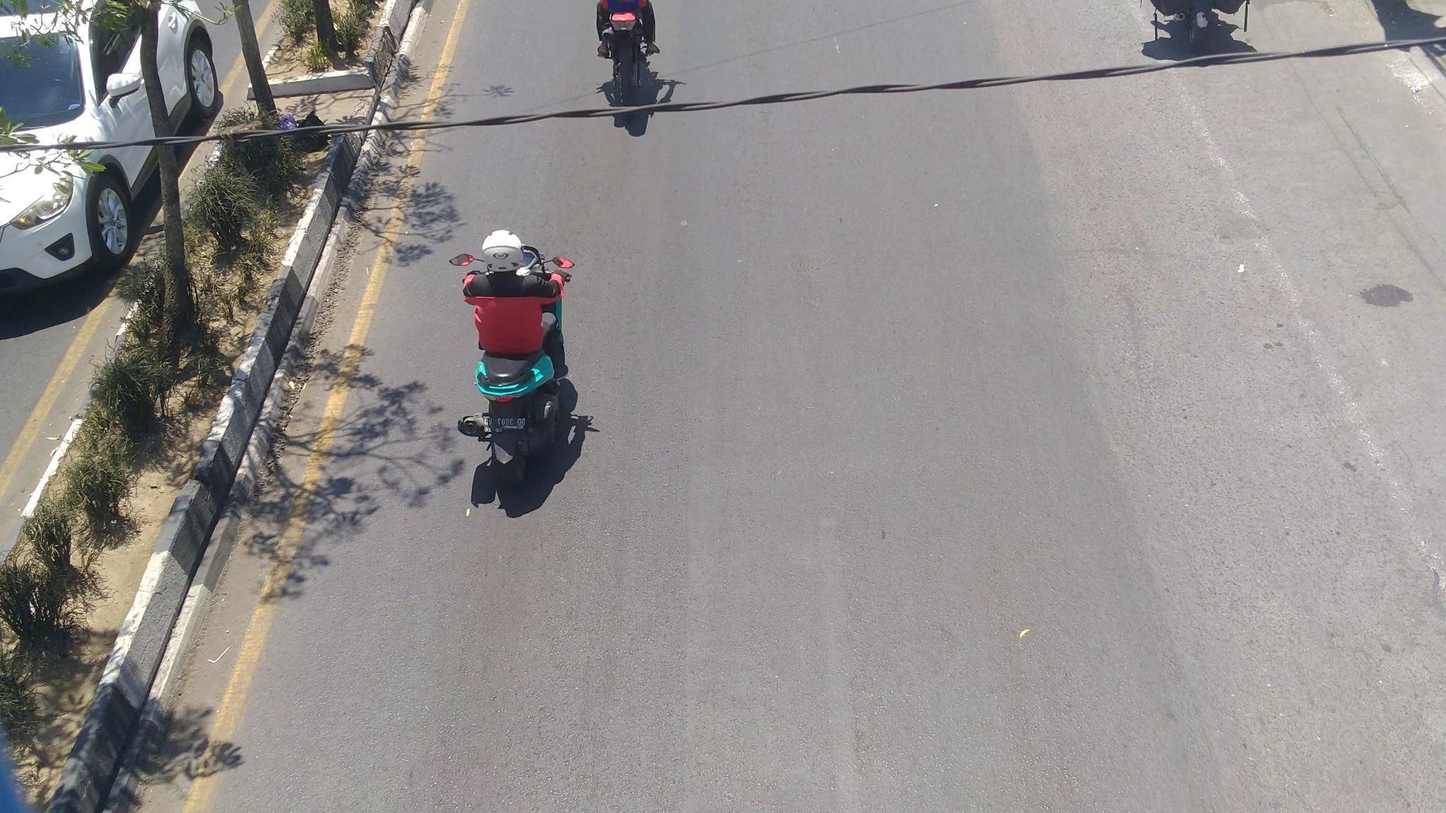Helmet: (474, 219, 528, 284)
bike: (451, 249, 575, 483)
number-plate: (486, 411, 527, 435)
rider: (463, 225, 573, 386)
